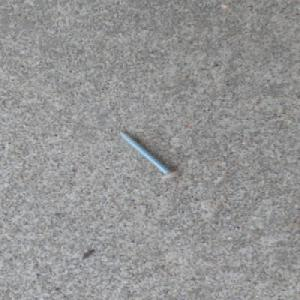Screw: (116, 129, 182, 179)
